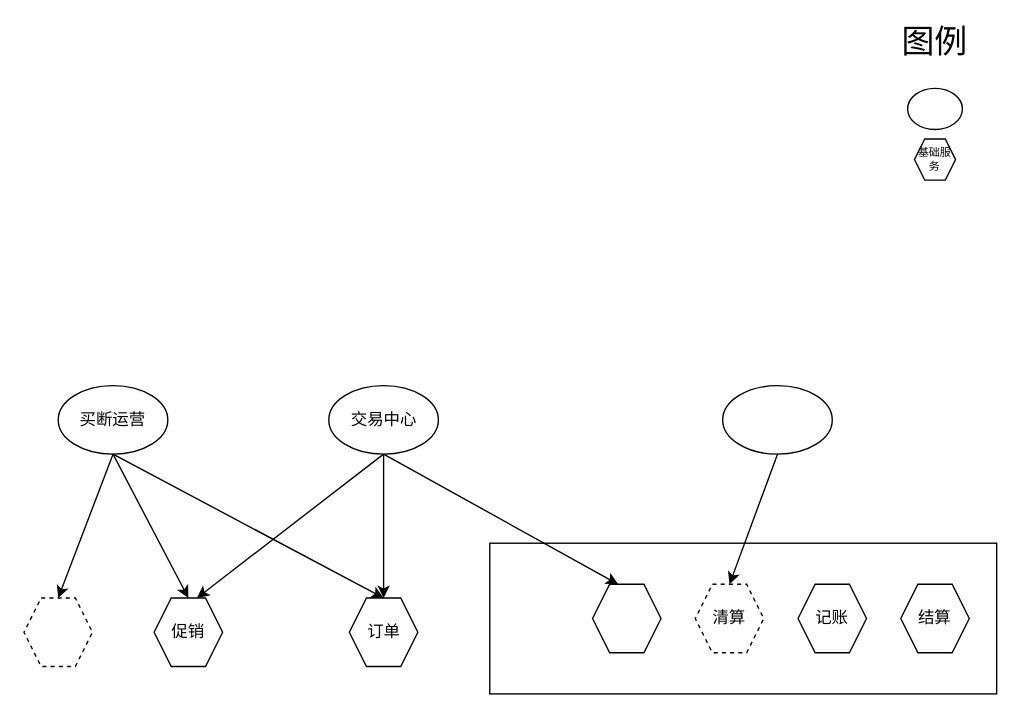
Image size: 1021x718. Some labels were removed from this diagram. The shapes that lost their labels are listed below. From the top down, each one's centre as x and y in pixels, then its label:
point 934,108: 业务系统
point 776,419: 清算中心
point 57,632: 买断
point 626,618: 收银
